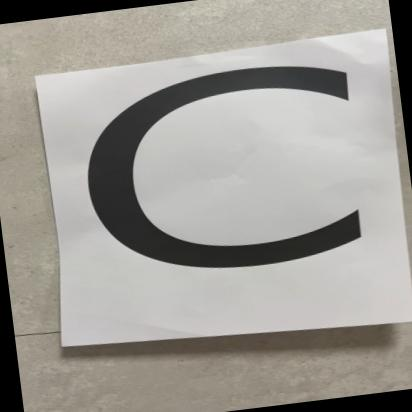seat: (25, 18, 412, 370)
